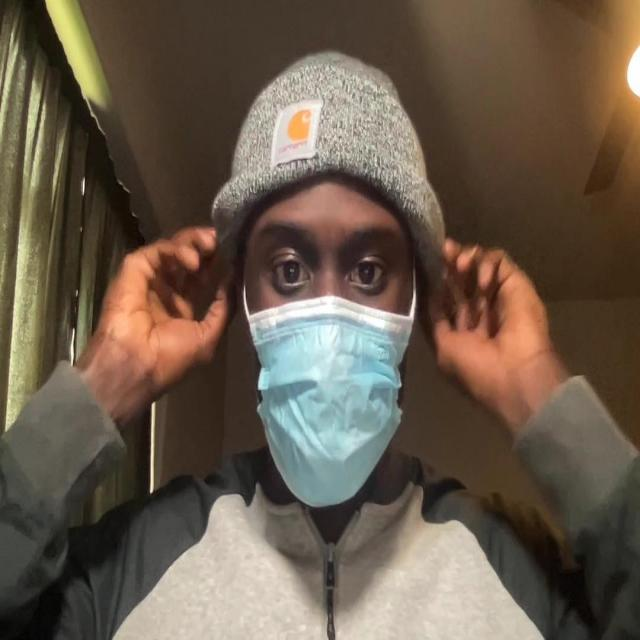face: (238, 129, 423, 509)
